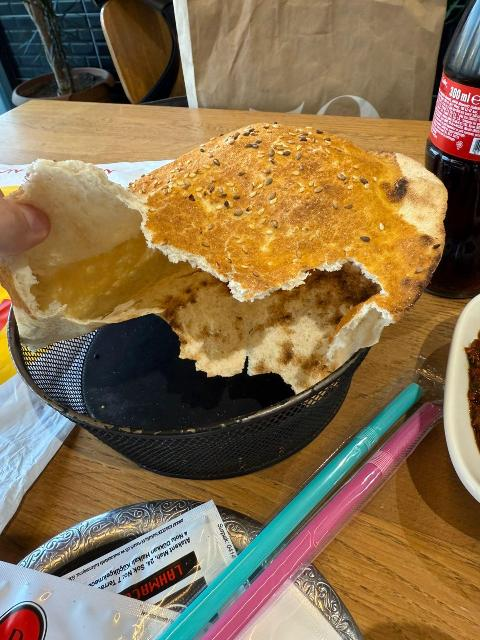Cam: (424, 0, 480, 290)
Organik: (19, 137, 436, 364)
Plastik: (212, 401, 436, 621), (0, 508, 220, 640)
